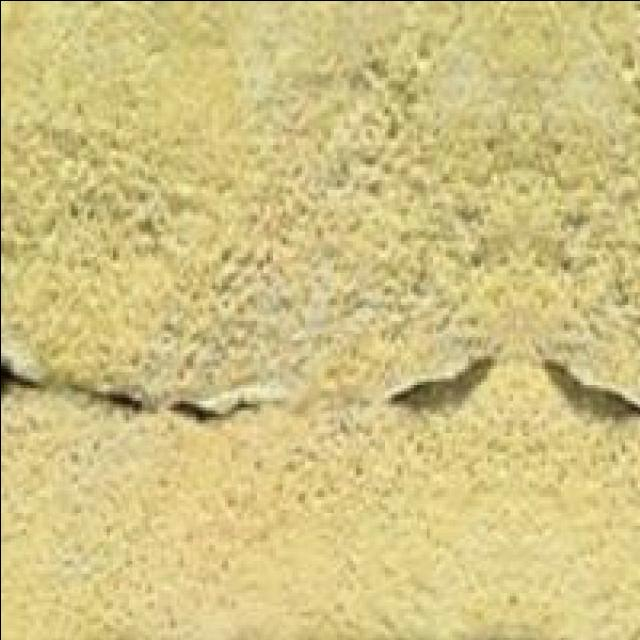SurfaceCrack: (0, 324, 270, 472), (388, 340, 640, 440)
